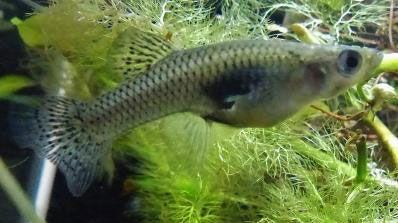Mosquito Fish: (13, 24, 382, 196)
